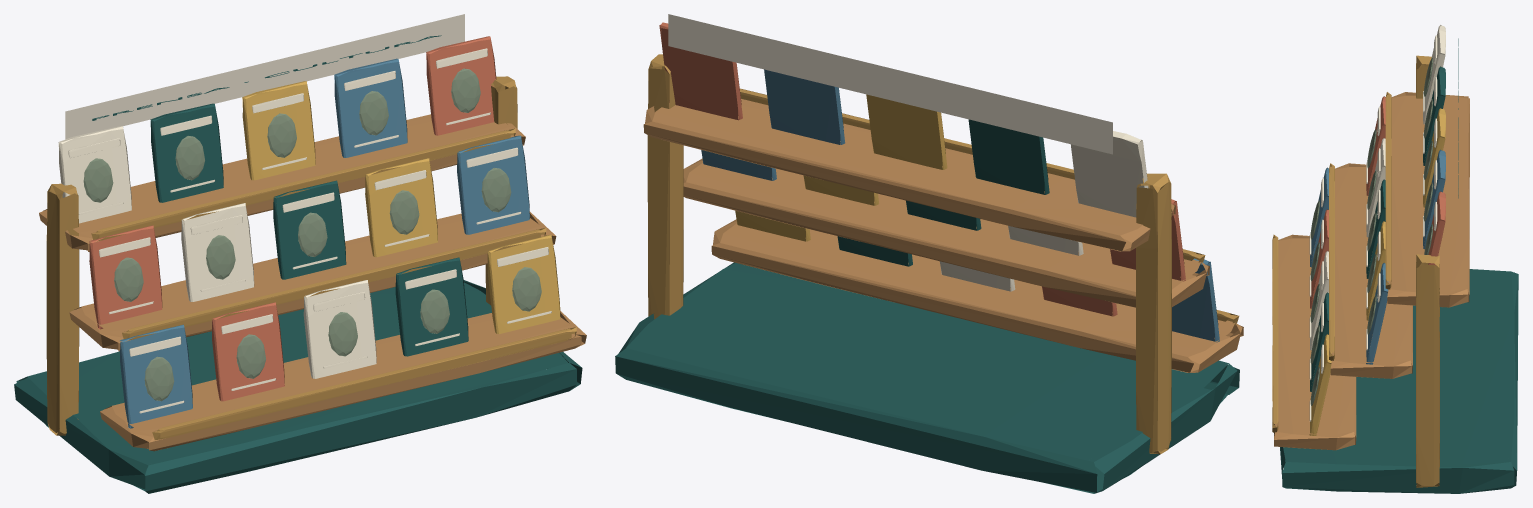
The model's file is good.glb.
3 views of the same model, side by side, from view 1: azimuth 30°, elevation 25°; view 2: azimuth 150°, elevation 25°; view 3: azimuth 270°, elevation 25° (orthographic). The views are drawn at different scales.
Parts seen in each view (by area): view 1: Native component 1, Native component 10, Native component 5, Native component 16, Native component 49, Native component 13, Native component 67, Native component 64, Native component 0; view 2: Native component 1, Native component 10, Native component 5, Native component 0, Native component 13, Native component 16, Native component 64, Native component 67; view 3: Native component 10, Native component 1, Native component 5, Native component 16, Native component 49, Native component 67, Native component 13, Native component 64.
Boxes of the visible parts, bbox=[...] form: Native component 1: bbox=[14, 103, 582, 493]; Native component 10: bbox=[39, 114, 586, 451]; Native component 5: bbox=[46, 76, 576, 440]; Native component 16: bbox=[58, 48, 551, 413]; Native component 49: bbox=[83, 68, 541, 401]; Native component 13: bbox=[120, 58, 529, 428]; Native component 67: bbox=[242, 81, 560, 333]; Native component 64: bbox=[89, 36, 496, 401]; Native component 0: bbox=[65, 14, 464, 139]; Native component 1: bbox=[615, 119, 1239, 493]; Native component 10: bbox=[643, 99, 1243, 372]; Native component 5: bbox=[647, 54, 1239, 454]; Native component 0: bbox=[668, 14, 1112, 154]; Native component 13: bbox=[701, 69, 1219, 342]; Native component 16: bbox=[939, 131, 1148, 291]; Native component 64: bbox=[659, 22, 1185, 316]; Native component 67: bbox=[735, 94, 947, 241]; Native component 10: bbox=[1274, 92, 1469, 450]; Native component 1: bbox=[1280, 66, 1518, 493]; Native component 5: bbox=[1272, 55, 1439, 487]; Native component 16: bbox=[1309, 25, 1445, 421]; Native component 49: bbox=[1310, 57, 1433, 405]; Native component 67: bbox=[1309, 108, 1445, 435]; Native component 13: bbox=[1310, 149, 1445, 364]; Native component 64: bbox=[1310, 96, 1445, 308].
Bounding box in the file's own units: 2 × 1.3 × 1.
